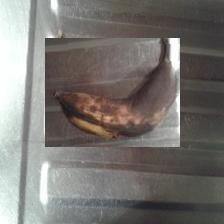Banana Rotten: (45, 38, 180, 147)
